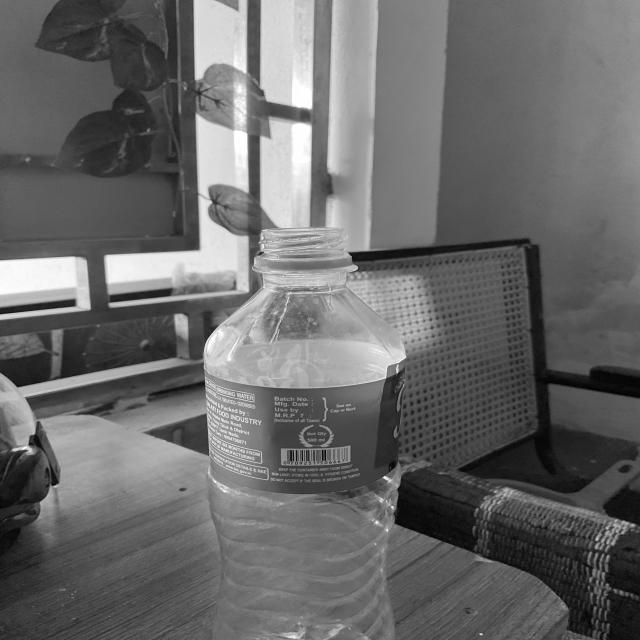open-cap: (255, 227, 356, 275)
